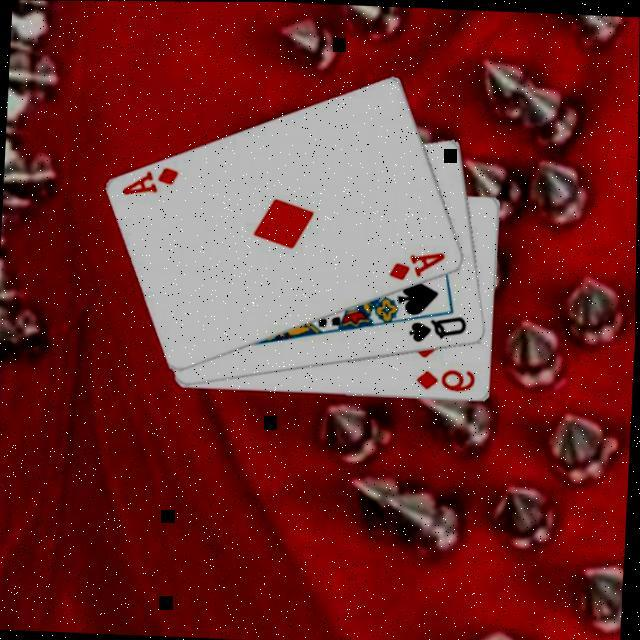6D: (415, 363, 480, 391)
AD: (387, 244, 450, 282), (121, 160, 183, 198)
QS: (406, 310, 472, 344)
